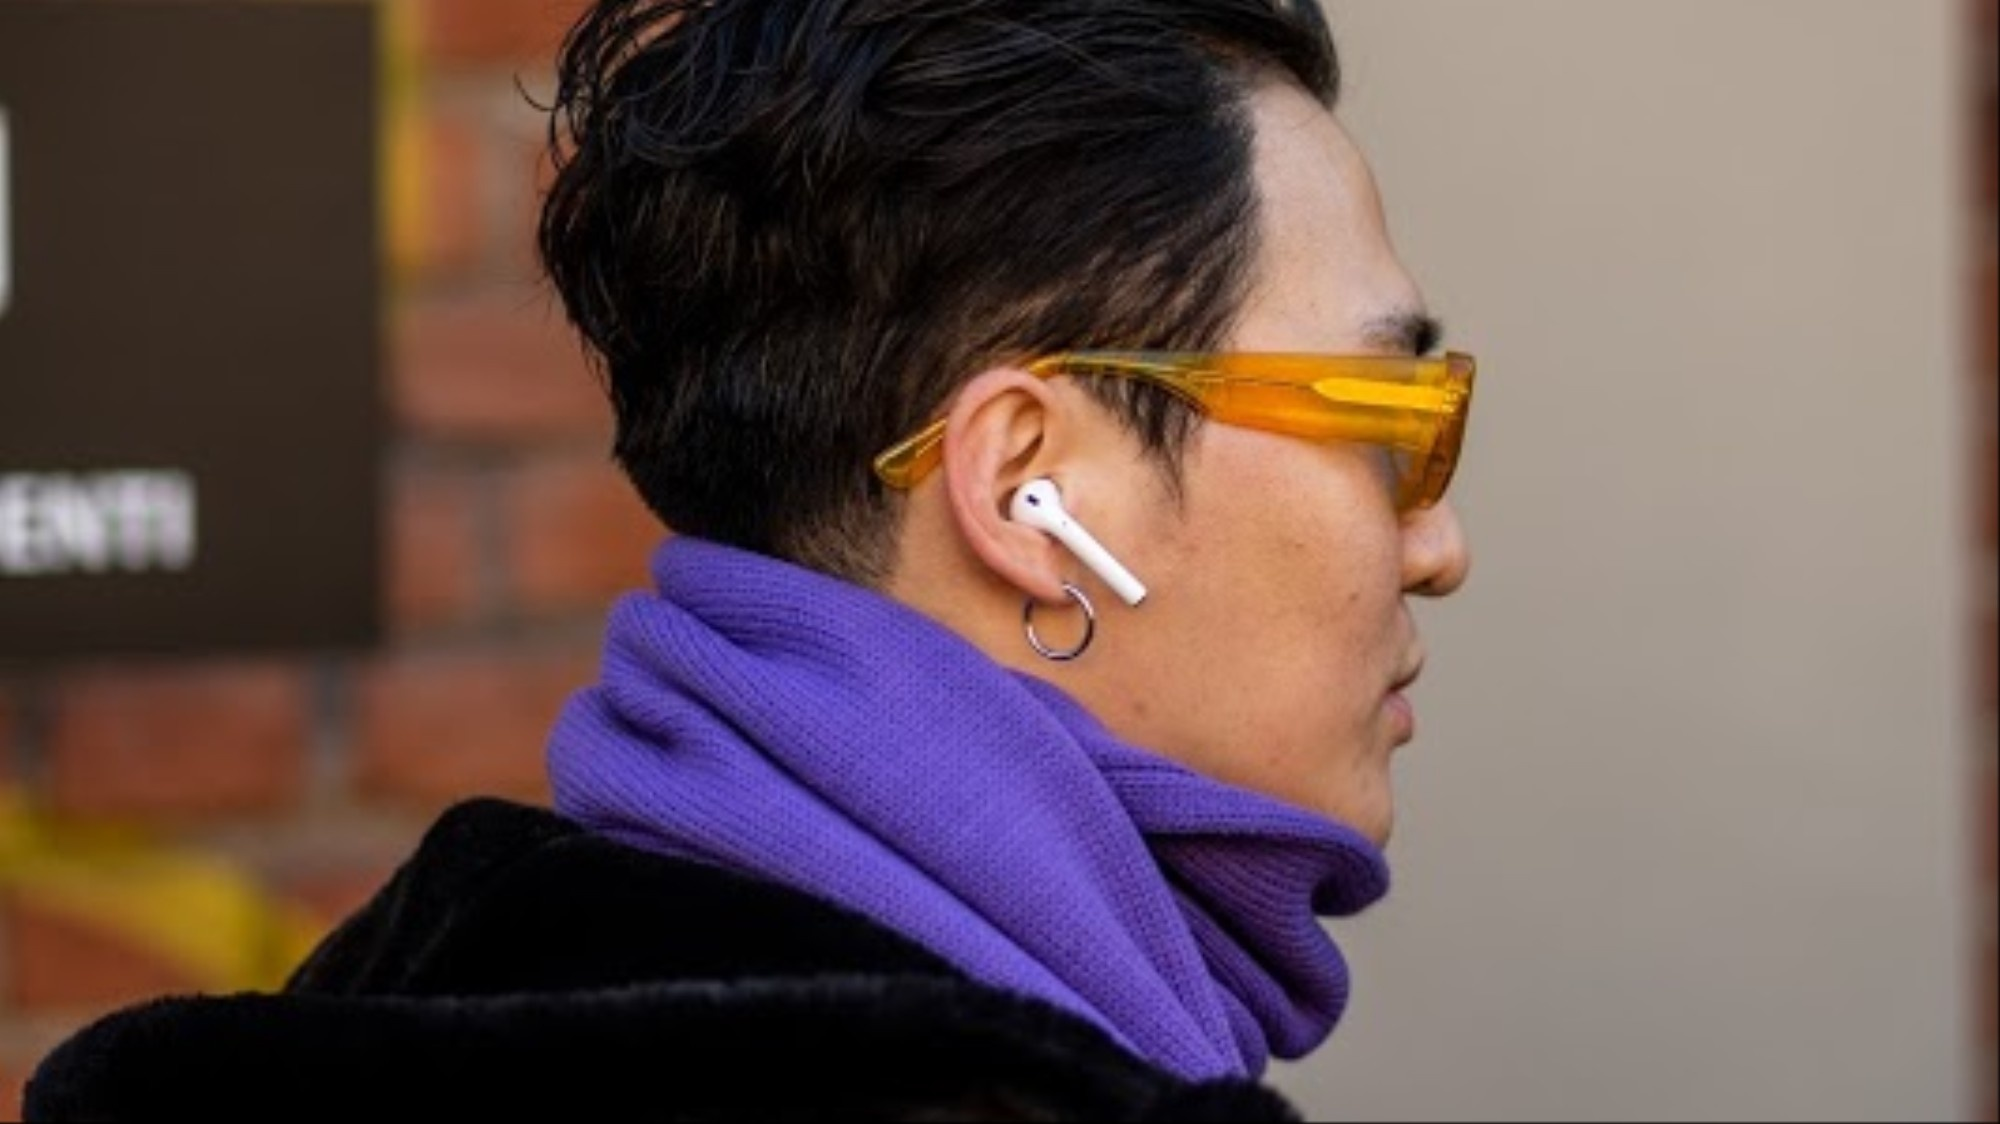earphone: (941, 368, 1091, 609)
